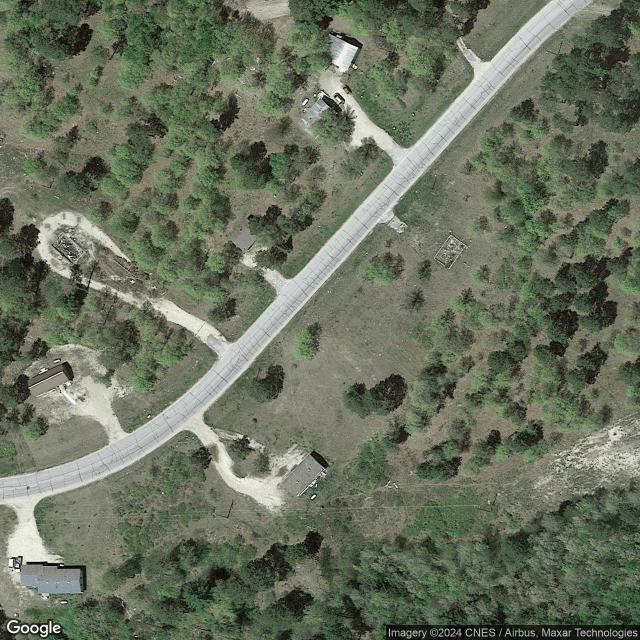Propane: (301, 98, 310, 107), (309, 492, 317, 502), (53, 357, 62, 364), (60, 599, 68, 605)
